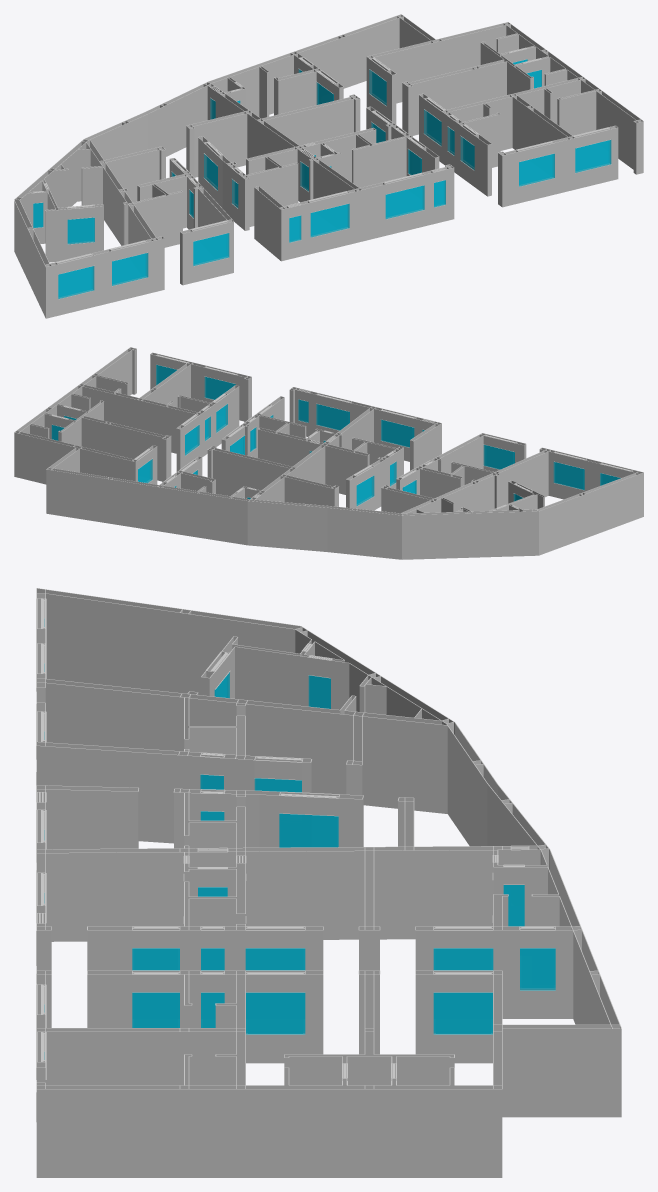
File: f1cfa725-8370-437a-bbbf-03adcfec8126_no_roof.glb
3 views of the same model, one above another, from view 1: azimuth 30°, elevation 25°; view 2: azimuth 150°, elevation 25°; view 3: azimuth 270°, elevation 25° (orthographic). The views are drawn at different scales.
Visible parts, largest first — view 1: walls, windows; view 2: walls, windows; view 3: walls, windows.
Boxes of the visible parts, bbox=[...] form: walls: bbox=[14, 14, 643, 318]; windows: bbox=[33, 59, 611, 298]; walls: bbox=[14, 347, 643, 559]; windows: bbox=[51, 364, 620, 505]; walls: bbox=[36, 588, 621, 1177]; windows: bbox=[44, 618, 555, 1059].
Size of the model in its own units: 30.29 by 2.5 by 14.97.
